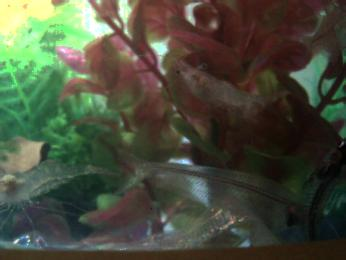X-ray fish: (306, 4, 346, 54)
glassfish: (117, 147, 311, 228)
siberian prawn: (1, 156, 124, 212), (169, 56, 292, 109)
